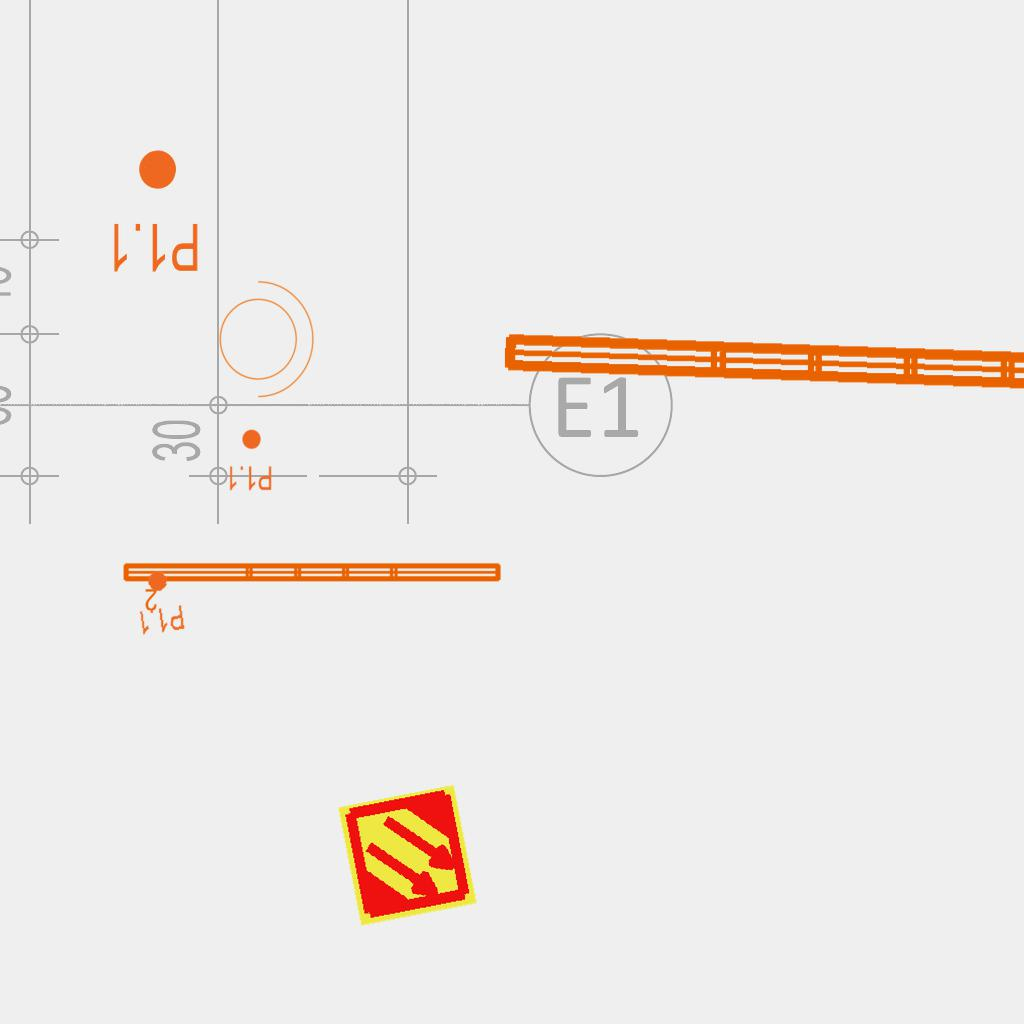ASR_Ansaugrauchmelder: (334, 782, 481, 929)
Ambulanz_Pendelleuchte_LED: (493, 270, 1024, 410), (119, 557, 506, 613)
Downlight_LED_Einbauleuchten_Flur: (108, 147, 201, 275), (131, 567, 187, 637), (227, 428, 273, 492)
Scheinwerfer_fuer_Alarmbeleuchtung: (207, 270, 319, 402)
